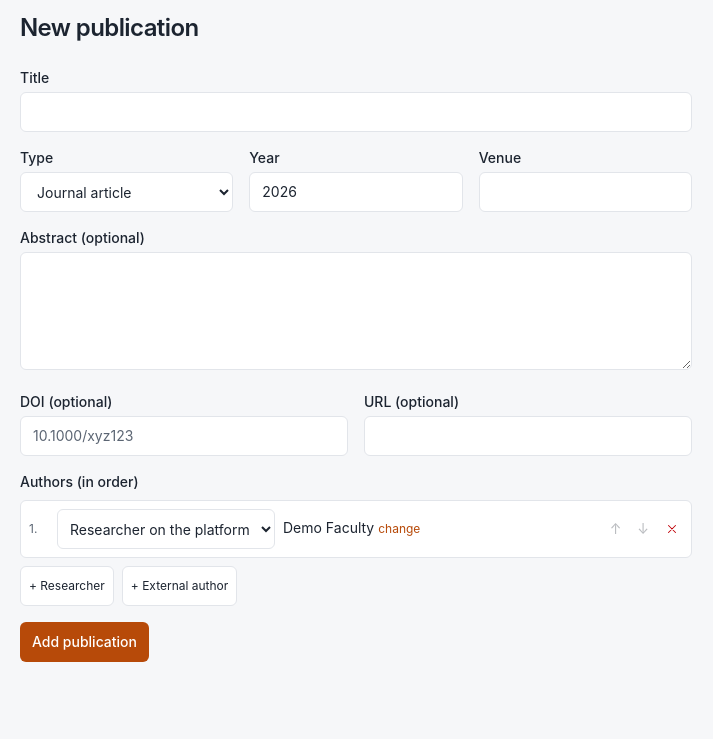
Test: PublicationFormPage › pre-fills the current user as first author and validates fields
This screenshot has width=713, height=739.
expect the text "Demo Faculty" is shown: met, box x1=283 y1=519 x2=374 y2=536
Step 1. Replace the text in the field labelled "Year" with "1500" → coordinates (356, 192), box x1=249 y1=172 x2=463 y2=212
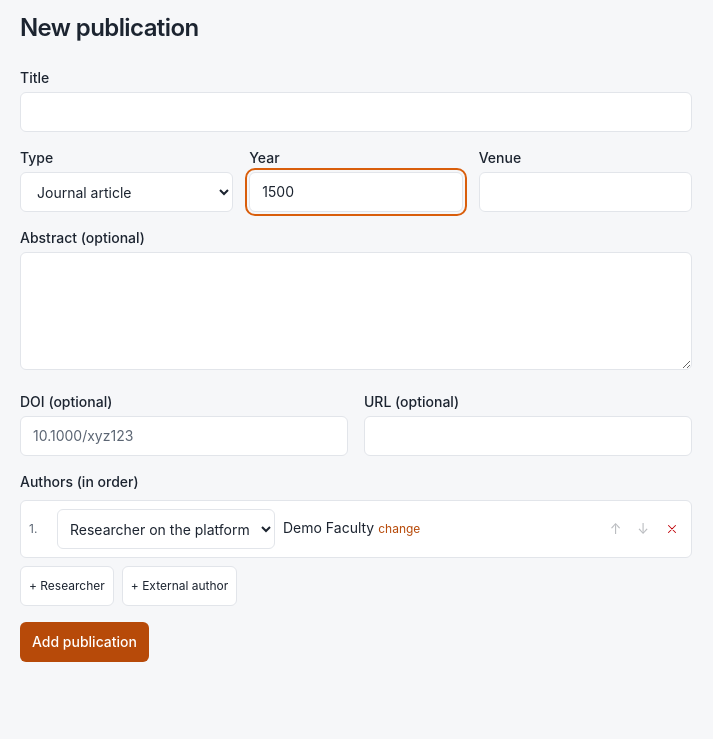
Step 2. Type "ftp://example.com" into the field labelled "URL (optional)" → coordinates (528, 436), box x1=364 y1=416 x2=692 y2=456
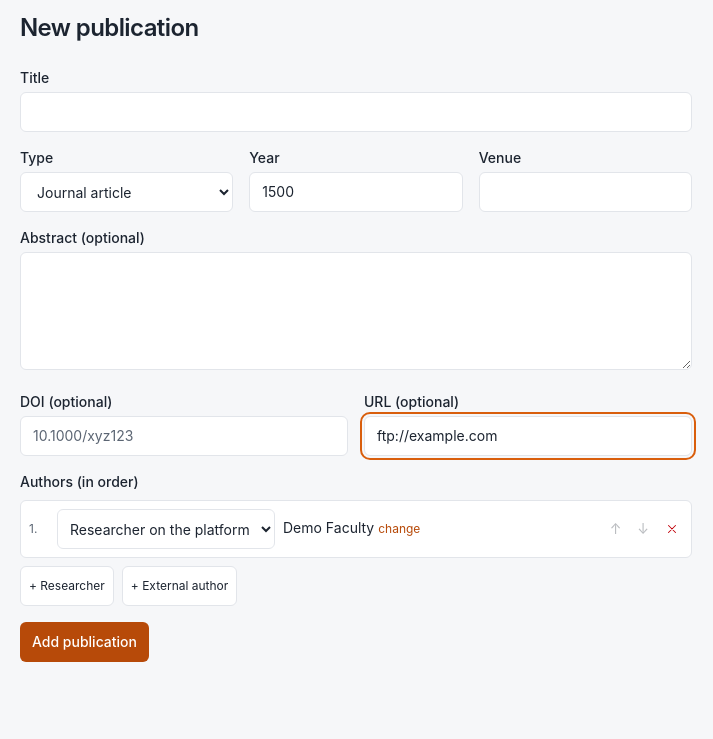
Step 3. Click the button "Add publication" → coordinates (84, 642), box x1=20 y1=622 x2=149 y2=662
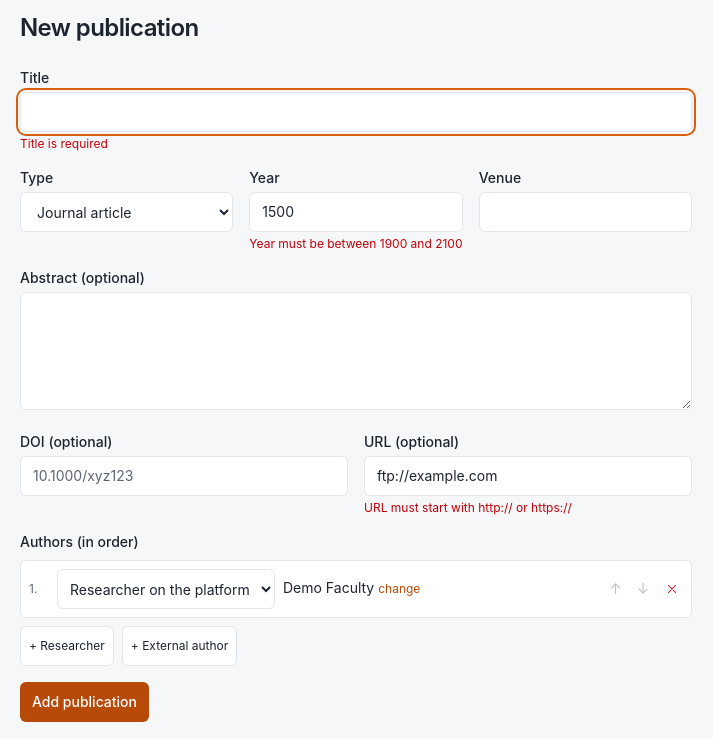
expect the text "Title is required" is shown: met, box x1=20 y1=136 x2=108 y2=151
expect the text "Year must be between 1900 and 2100" is shown: met, box x1=249 y1=236 x2=463 y2=252
expect the text "URL must start with http:// or https://" is shown: met, box x1=364 y1=500 x2=572 y2=515
